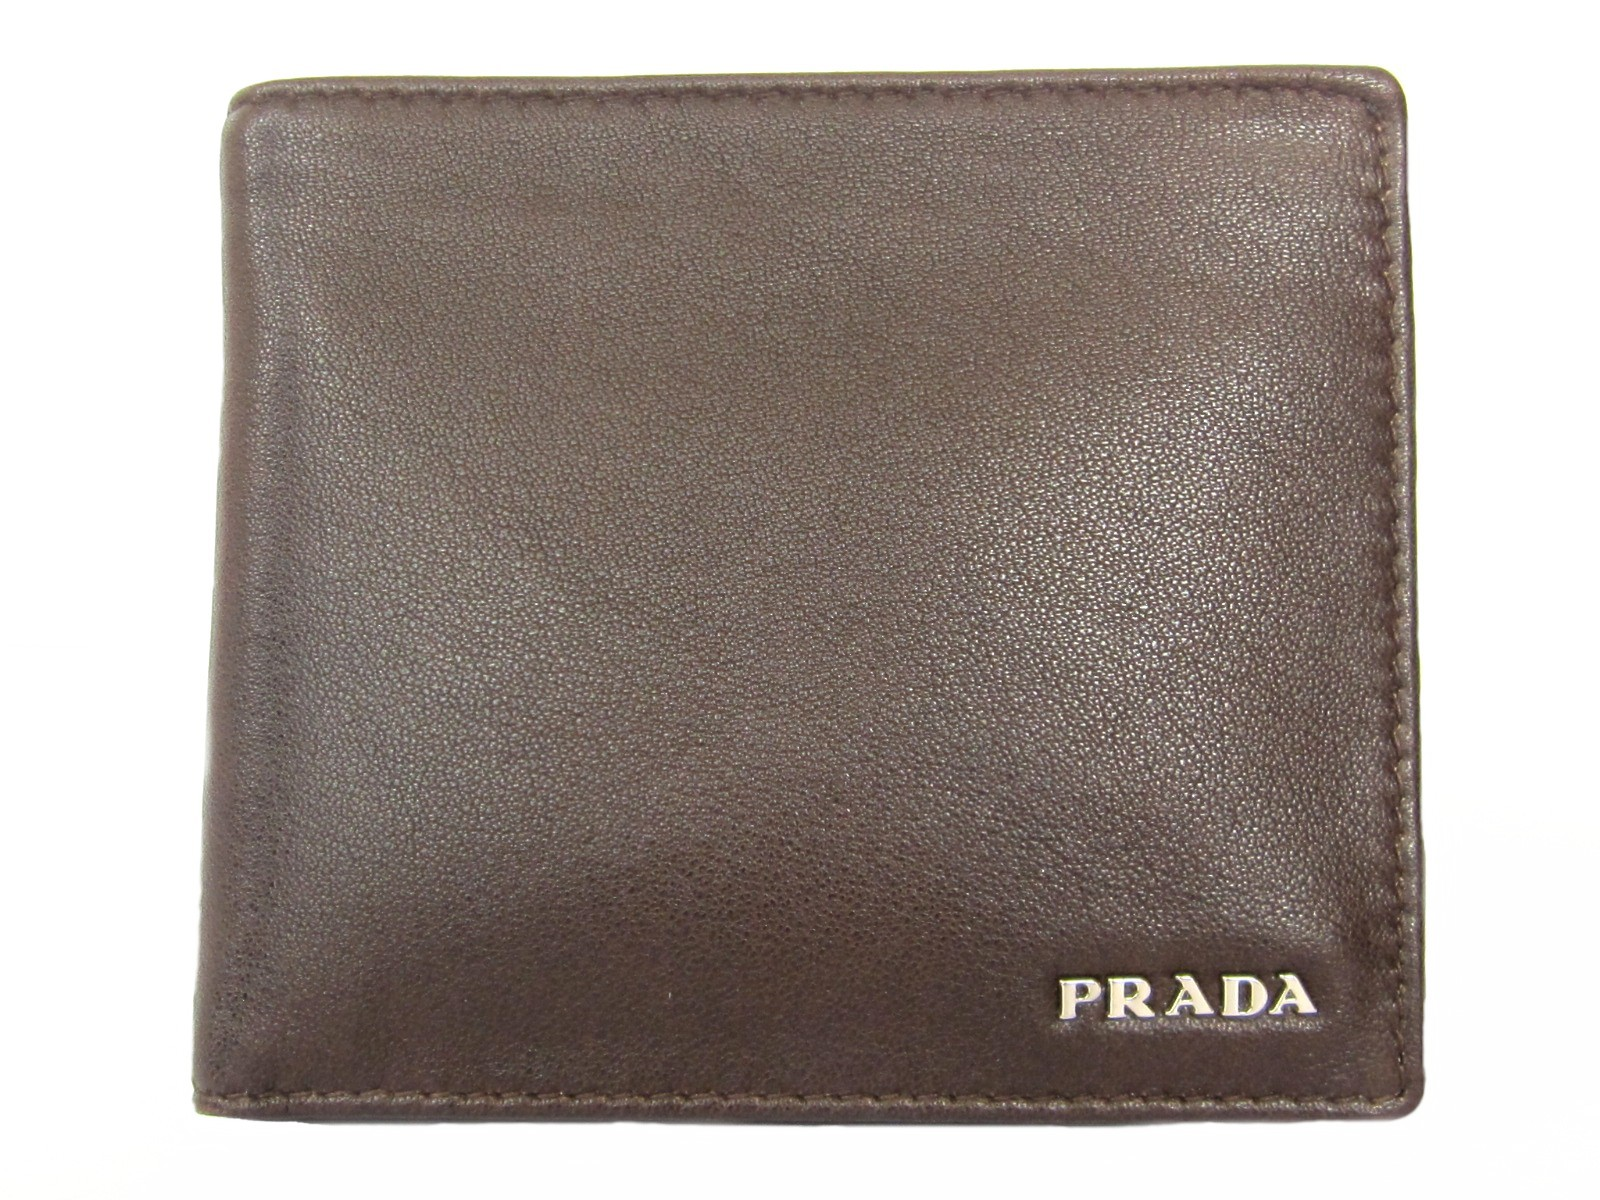monedero: (185, 53, 1432, 1134)
